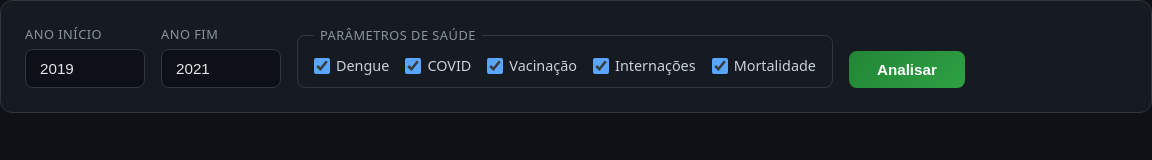
Scenario: AnalysisControls › disables submit button when all toggles are unchecked
Uncheck all (they start checked)
Click the checkbox with test id "toggle-dengue". click: (322, 66)
box: [314,58,330,74]
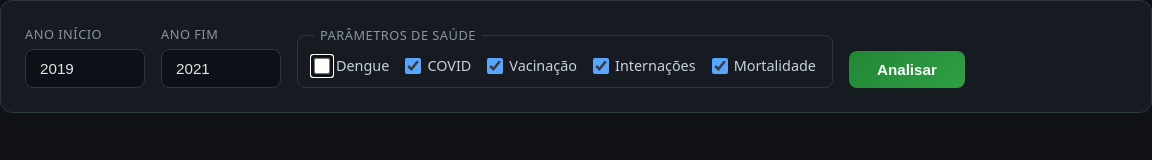
Click the checkbox with test id "toggle-covid". click: (413, 66)
box: [405,58,421,74]
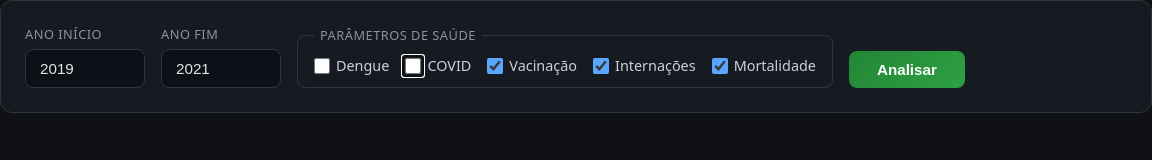
Click the checkbox with test id "toggle-vaccination". click: (495, 66)
box: [487,58,503,74]
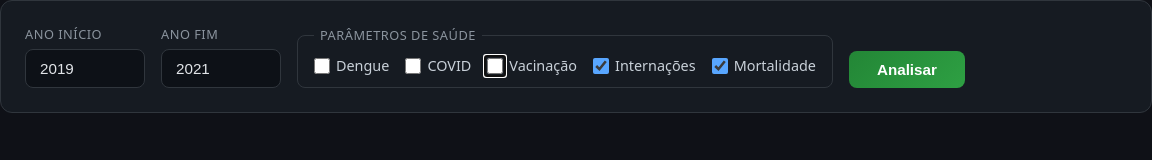
Click the checkbox with test id "toggle-internacoes". click: (601, 66)
box: [593,58,609,74]
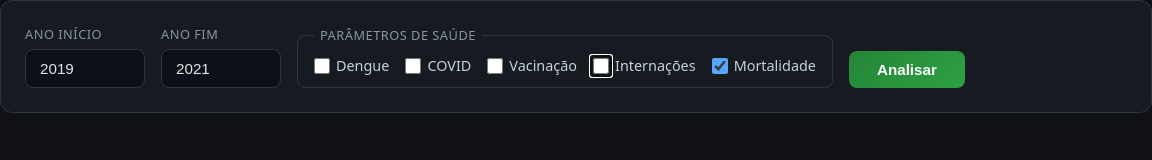
Click the checkbox with test id "toggle-mortalidade". click: (720, 66)
box: [712,58,728,74]
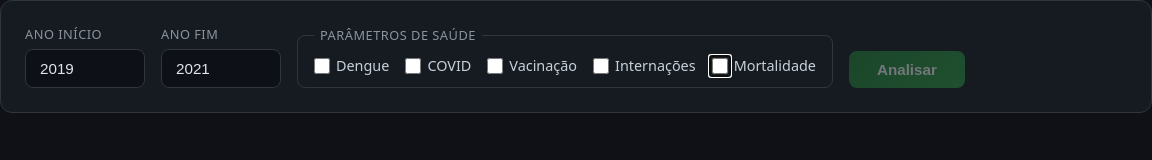
Expected: the button with test id "submit-button" is disabled, [849,51,965,88]
